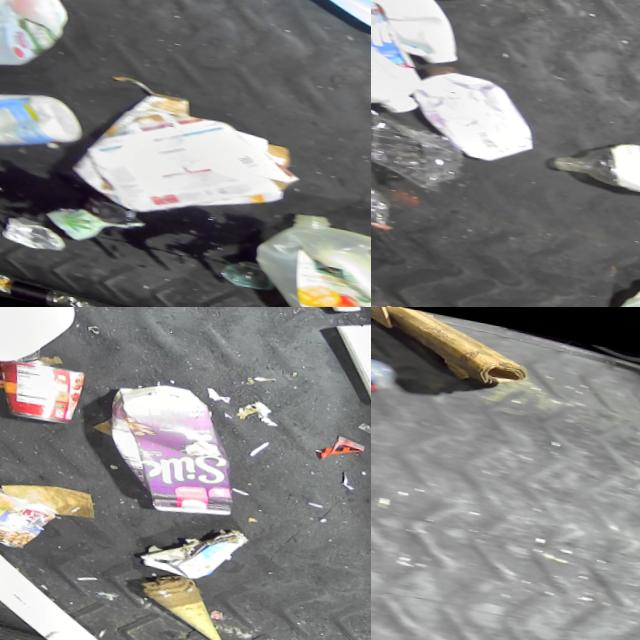can: (0, 351, 104, 435)
milk_jug: (245, 198, 371, 307), (371, 0, 477, 65), (371, 0, 432, 112), (0, 0, 81, 81), (0, 307, 85, 378), (590, 259, 640, 307)
